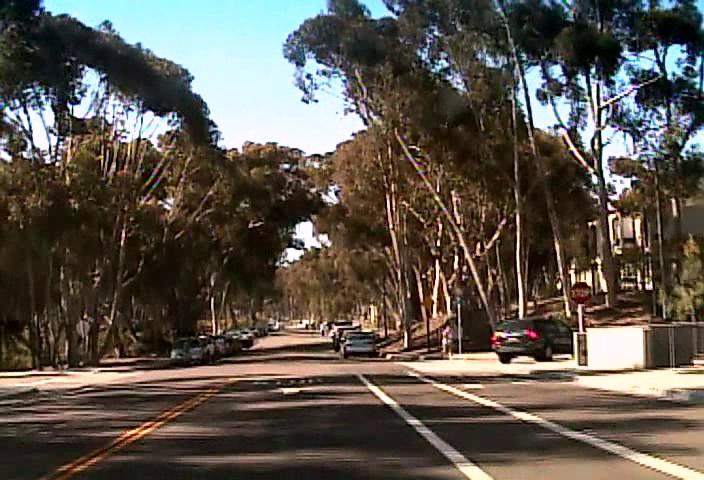stop: (568, 280, 592, 305)
